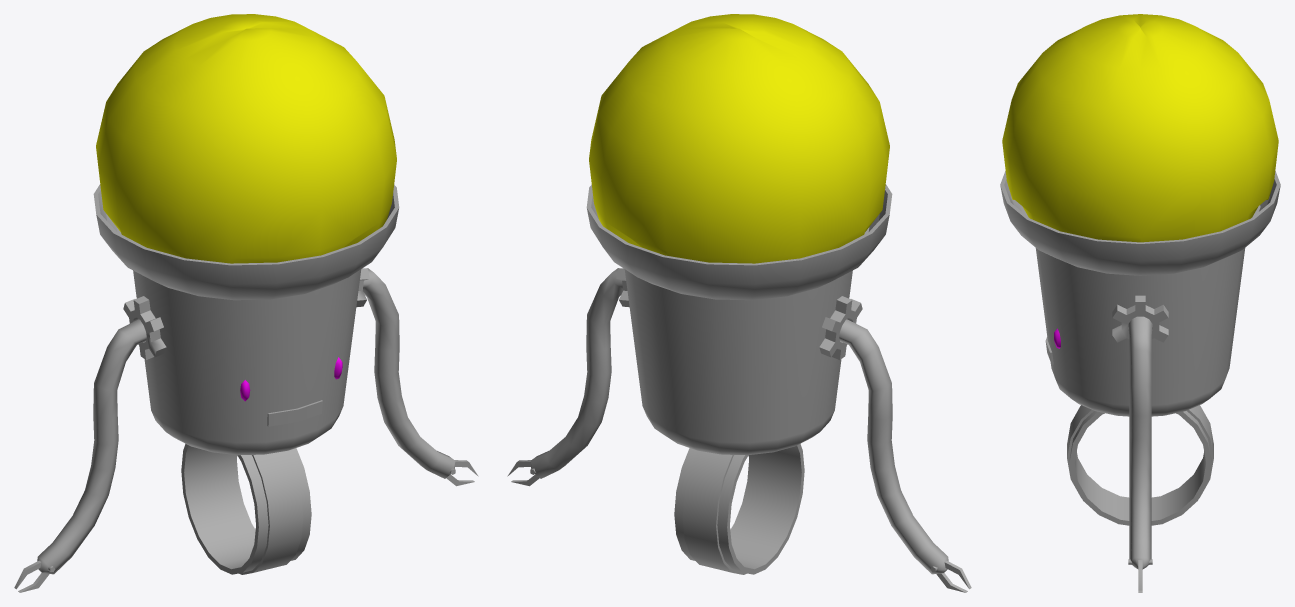
File: Companion_Robot.fbx
3 views of the same model, side by side, from view 1: azimuth 30°, elevation 25°; view 2: azimuth 150°, elevation 25°; view 3: azimuth 270°, elevation 25° (orthographic). The views are drawn at different scales.
Parts seen in each view (by area): view 1: Body, Wheel, Arm_R, Arm_L; view 2: Body, Wheel, Arm_R, Arm_L; view 3: Body, Arm_L, Wheel.
Part boxes in pixels (x1,y1,x2,y2): Body: (93, 14, 399, 455); Wheel: (181, 444, 311, 574); Arm_R: (14, 296, 166, 592); Arm_L: (356, 268, 478, 486); Body: (586, 14, 892, 455); Wheel: (674, 444, 804, 574); Arm_R: (819, 296, 971, 592); Arm_L: (507, 268, 629, 486); Body: (1000, 14, 1280, 416); Arm_L: (1112, 295, 1168, 592); Wheel: (1067, 405, 1213, 525).
Size of the model in its own units: 163 by 181 by 94.04.
